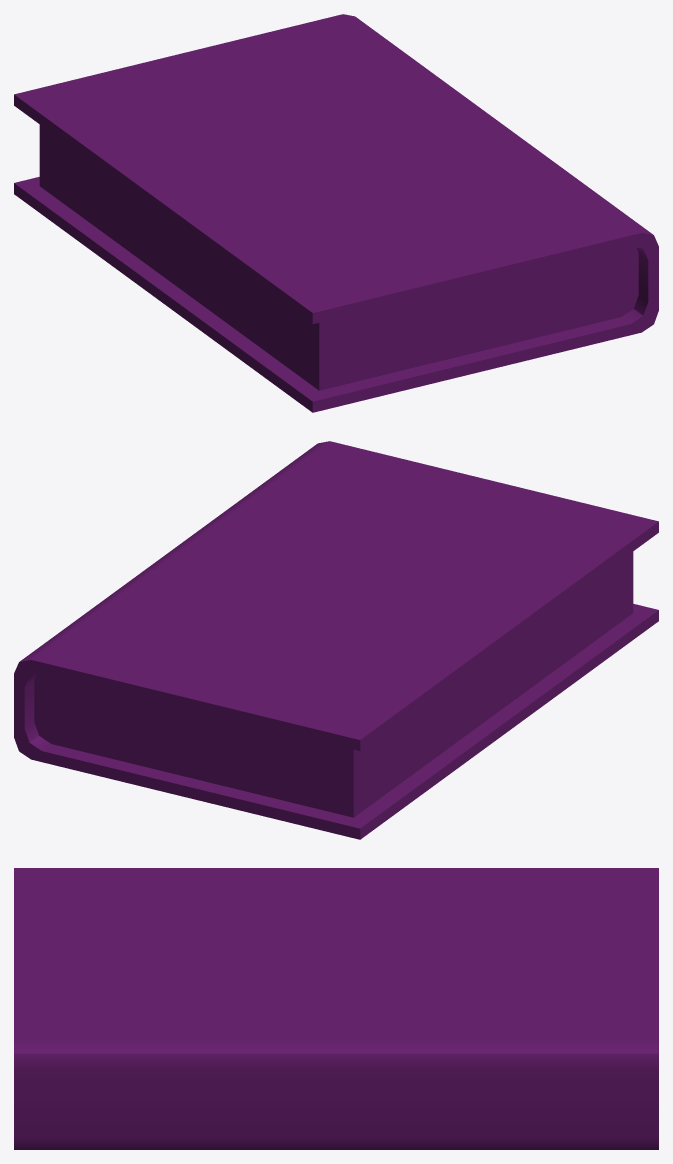
The model's file is MediumBook.fbx.
3 renders of one model, top to bottom at view 1: azimuth 30°, elevation 25°; view 2: azimuth 150°, elevation 25°; view 3: azimuth 270°, elevation 25°, orthographic. The views are drawn at different scales.
Parts seen in each view (by area): view 1: PR_Bookspine_02, PR_Paper_02; view 2: PR_Bookspine_02, PR_Paper_02; view 3: PR_Bookspine_02.
Part boxes in pixels (left/top/right/bottom): PR_Bookspine_02: left=14, top=14, right=658, bottom=412; PR_Paper_02: left=39, top=125, right=638, bottom=390; PR_Bookspine_02: left=14, top=441, right=658, bottom=839; PR_Paper_02: left=34, top=552, right=633, bottom=817; PR_Bookspine_02: left=14, top=868, right=658, bottom=1149.
Size of the model in its own units: 31.8 by 8.75 by 47.54.
